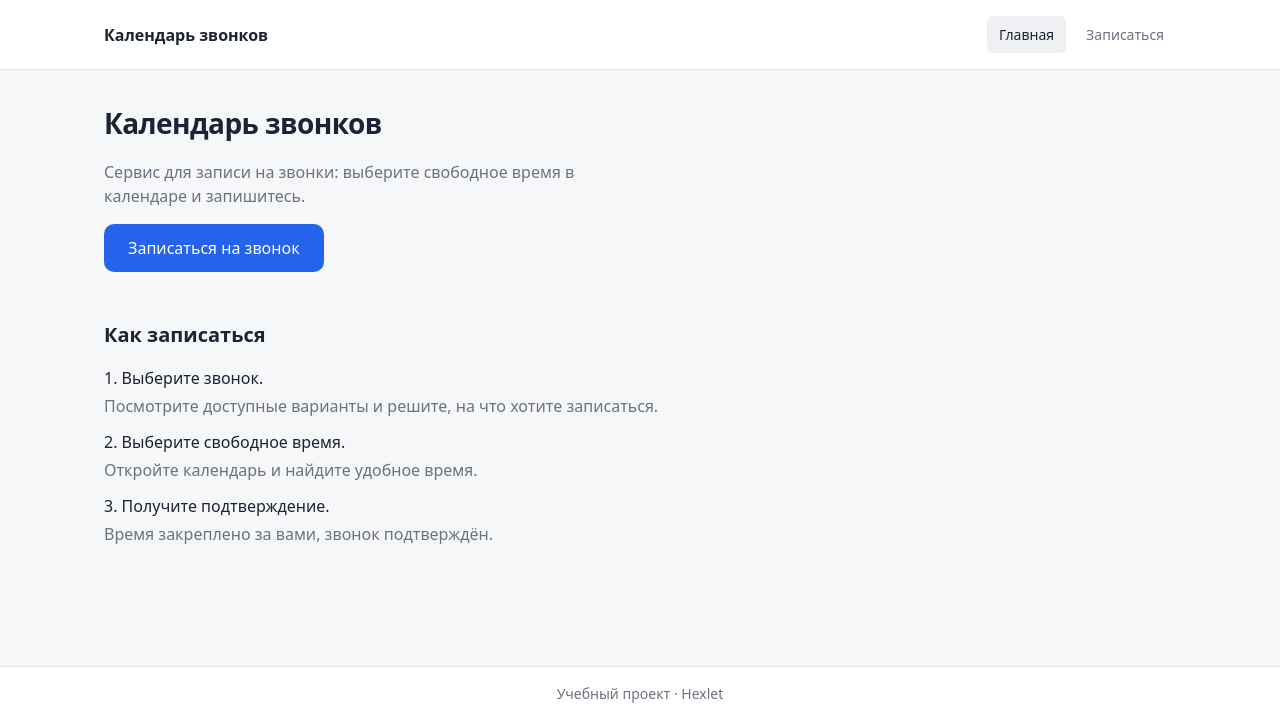
Test: Переход на страницу записи › по основному действию открывает страницу записи
Step 1. Click the link "Записаться на звонок" → (214, 248), box [104,224,324,272]
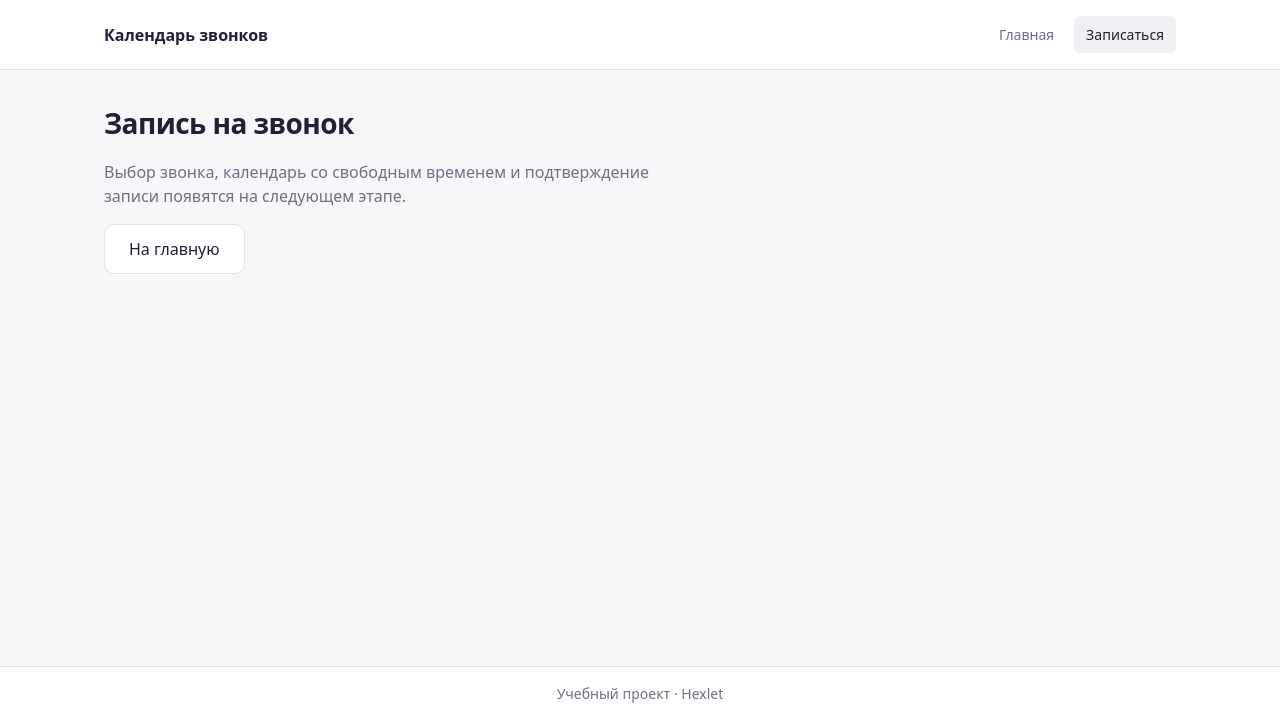
Expected: the heading "Запись на звонок" is shown, [104,102,354,144]
